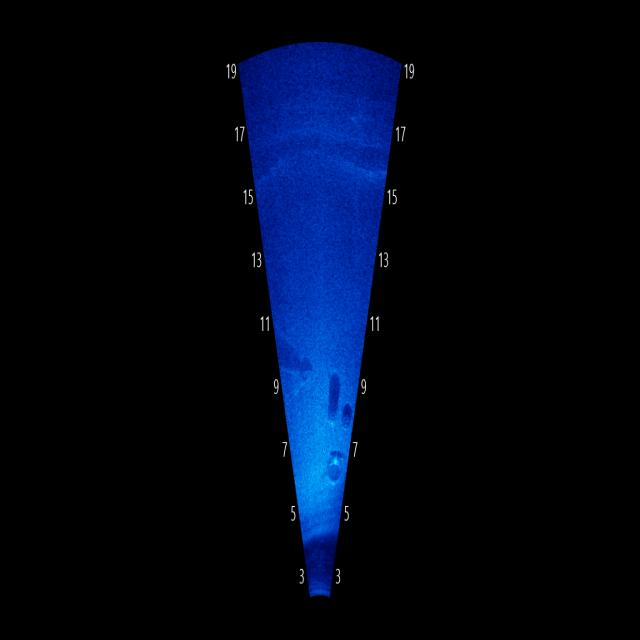circle: (316, 449, 349, 495), (336, 390, 356, 442), (323, 402, 341, 438)
triangle: (280, 334, 311, 420)
